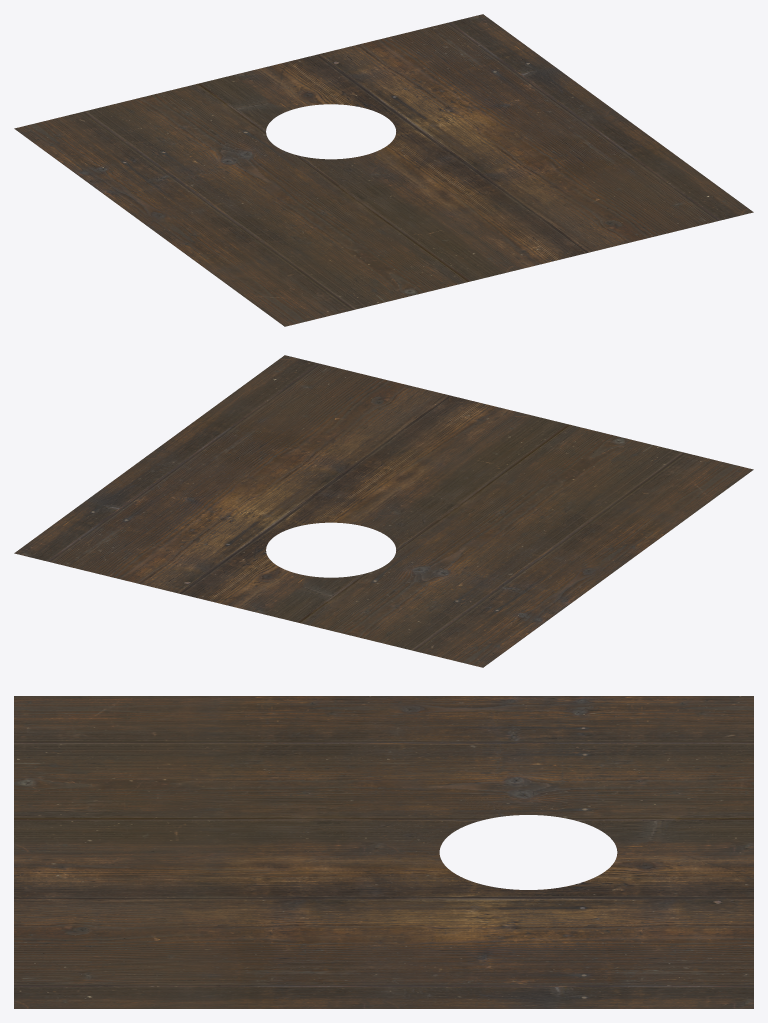
File: dimian.fbx
3 renders of one model, top to bottom at view 1: azimuth 30°, elevation 25°; view 2: azimuth 150°, elevation 25°; view 3: azimuth 270°, elevation 25°, orthographic. The views are drawn at different scales.
Visible parts, largest first — view 1: Plane; view 2: Plane; view 3: Plane.
Boxes of the visible parts, left/top/right/bottom form: Plane: left=14, top=14, right=753, bottom=326; Plane: left=14, top=355, right=753, bottom=667; Plane: left=14, top=696, right=753, bottom=1008.
Size of the model in its own units: 10000 by 0.000437 by 10000.
